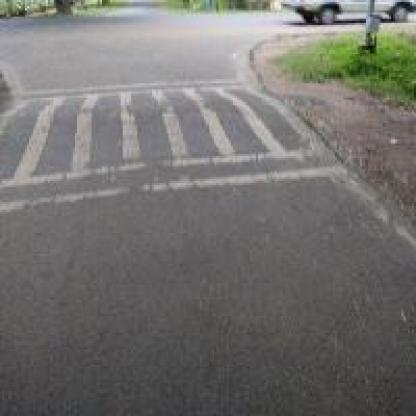Speed Bump: (2, 75, 345, 210)
